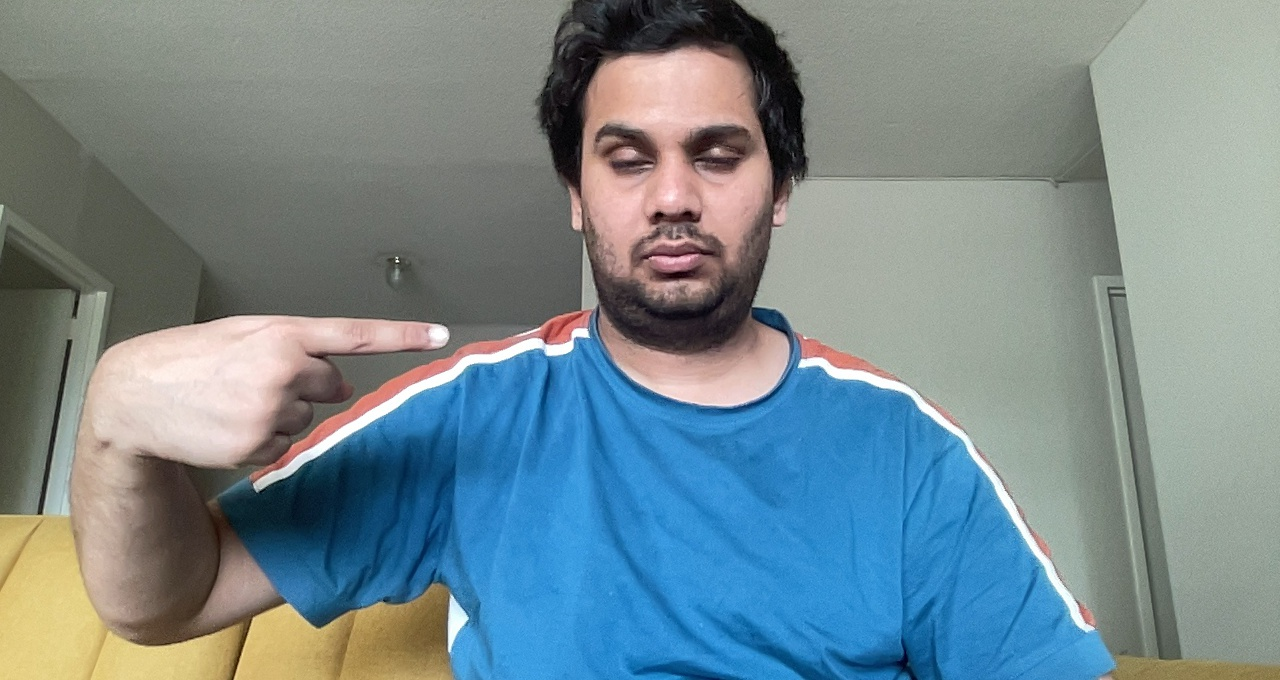fingerleft: (89, 309, 458, 475)
